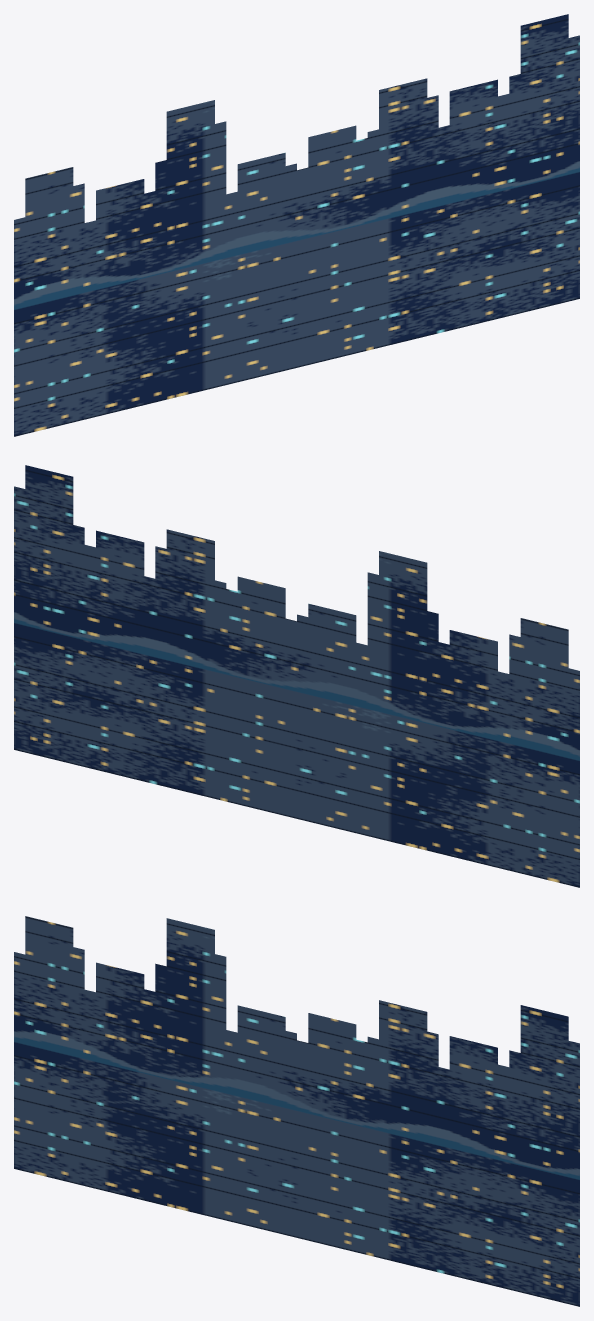
Rendered from cysky.stepped__low.glb.
The picture shows the model from 3 angles, top to bottom: view 1: azimuth 30°, elevation 25°; view 2: azimuth 150°, elevation 25°; view 3: azimuth 330°, elevation 25°; orthographic projection.
Parts seen in each view (by area): view 1: kit_card_skyline; view 2: kit_card_skyline; view 3: kit_card_skyline.
Boxes of the visible parts, x1,y1,x2,y2 form: kit_card_skyline: (14,14,579,436); kit_card_skyline: (14,465,579,887); kit_card_skyline: (14,916,579,1306).
Bounding box in the file's own units: 56 × 27.23 × 0.
1 material, 1 textured.
